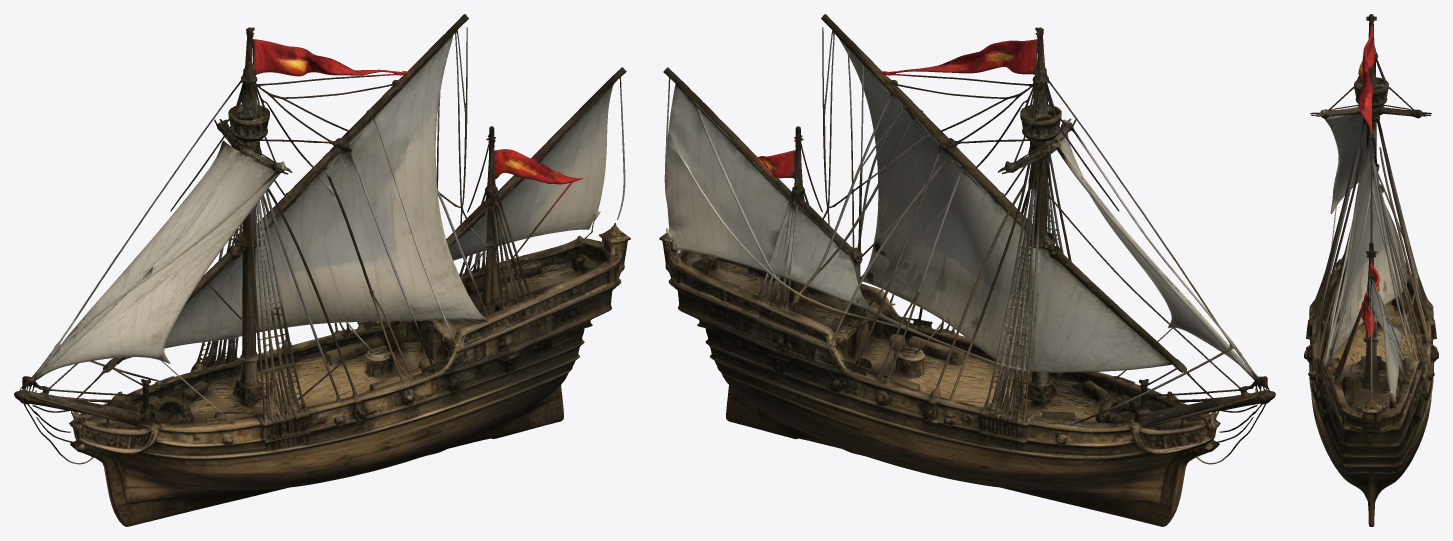
The model's file is caravel.glb.
3 views of the same model, side by side, from view 1: azimuth 30°, elevation 25°; view 2: azimuth 150°, elevation 25°; view 3: azimuth 270°, elevation 25° (orthographic). The views are drawn at different scales.
Visible parts, largest first — view 1: node_0; view 2: node_0; view 3: node_0.
Part boxes in pixels (x1,y1,x2,y2): node_0: (14, 14, 630, 526); node_0: (659, 14, 1275, 526); node_0: (1304, 14, 1438, 526).
Size of the model in its own units: 1.12 by 0.8189 by 0.258.
1 material, 1 textured.
